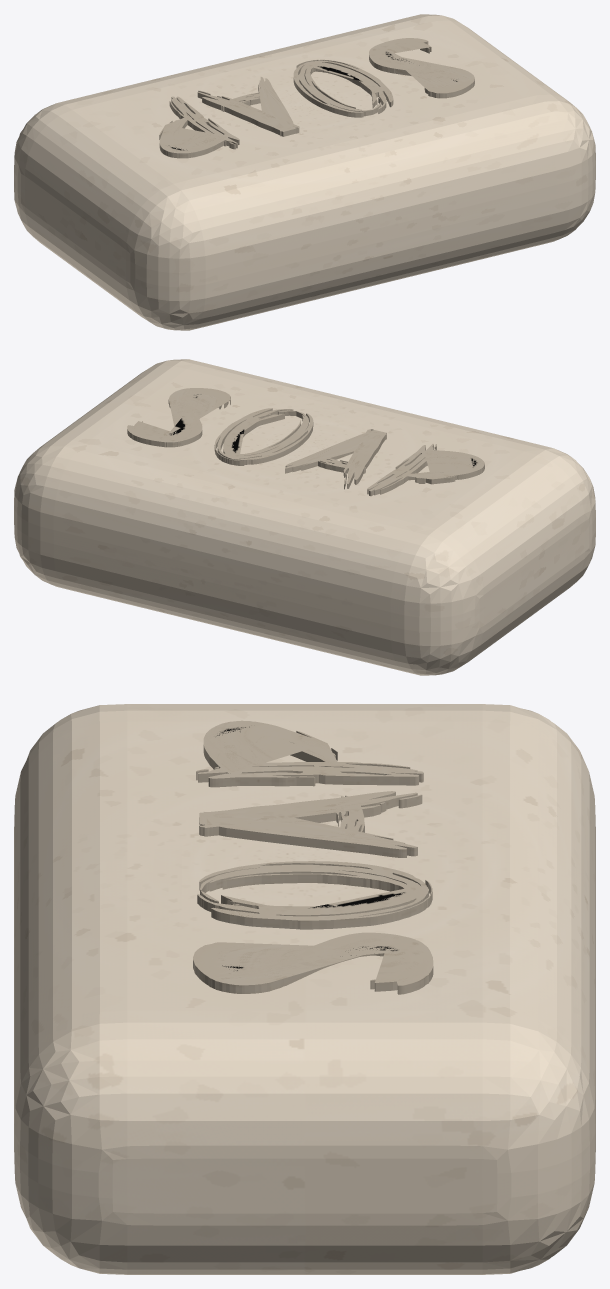
File: Soap.fbx
3 views of the same model, one above another, from view 1: azimuth 30°, elevation 25°; view 2: azimuth 150°, elevation 25°; view 3: azimuth 270°, elevation 25° (orthographic). The views are drawn at different scales.
Visible parts, largest first — view 1: Cube_1, Extrude_1; view 2: Cube_1, Extrude_1; view 3: Cube_1, Extrude_1.
Part boxes in pixels (x1,y1,x2,y2): Cube_1: (14,14,595,330); Extrude_1: (159,38,474,158); Cube_1: (14,359,595,675); Extrude_1: (127,388,484,496); Cube_1: (14,704,595,1274); Extrude_1: (193,720,433,994).
Bounding box in the file's own units: 340 × 103 × 213.
2 materials, 2 textured.
